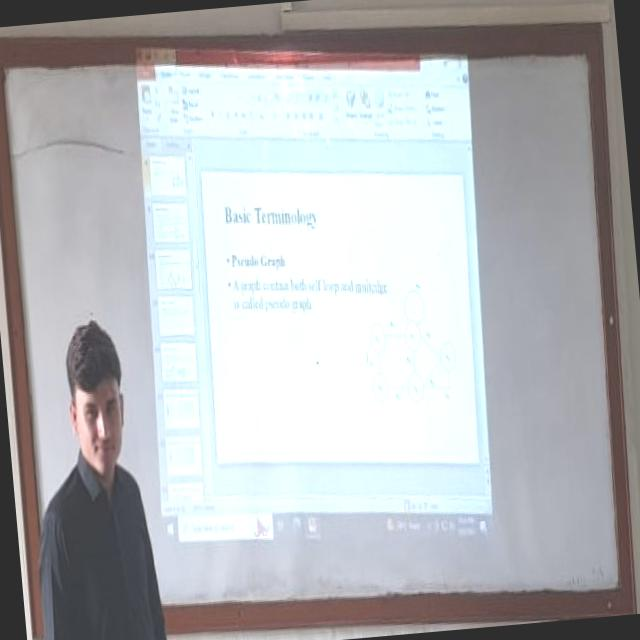Instructor: (28, 271, 158, 640)
Slide: (134, 41, 496, 546)
White-board: (0, 31, 633, 625)
